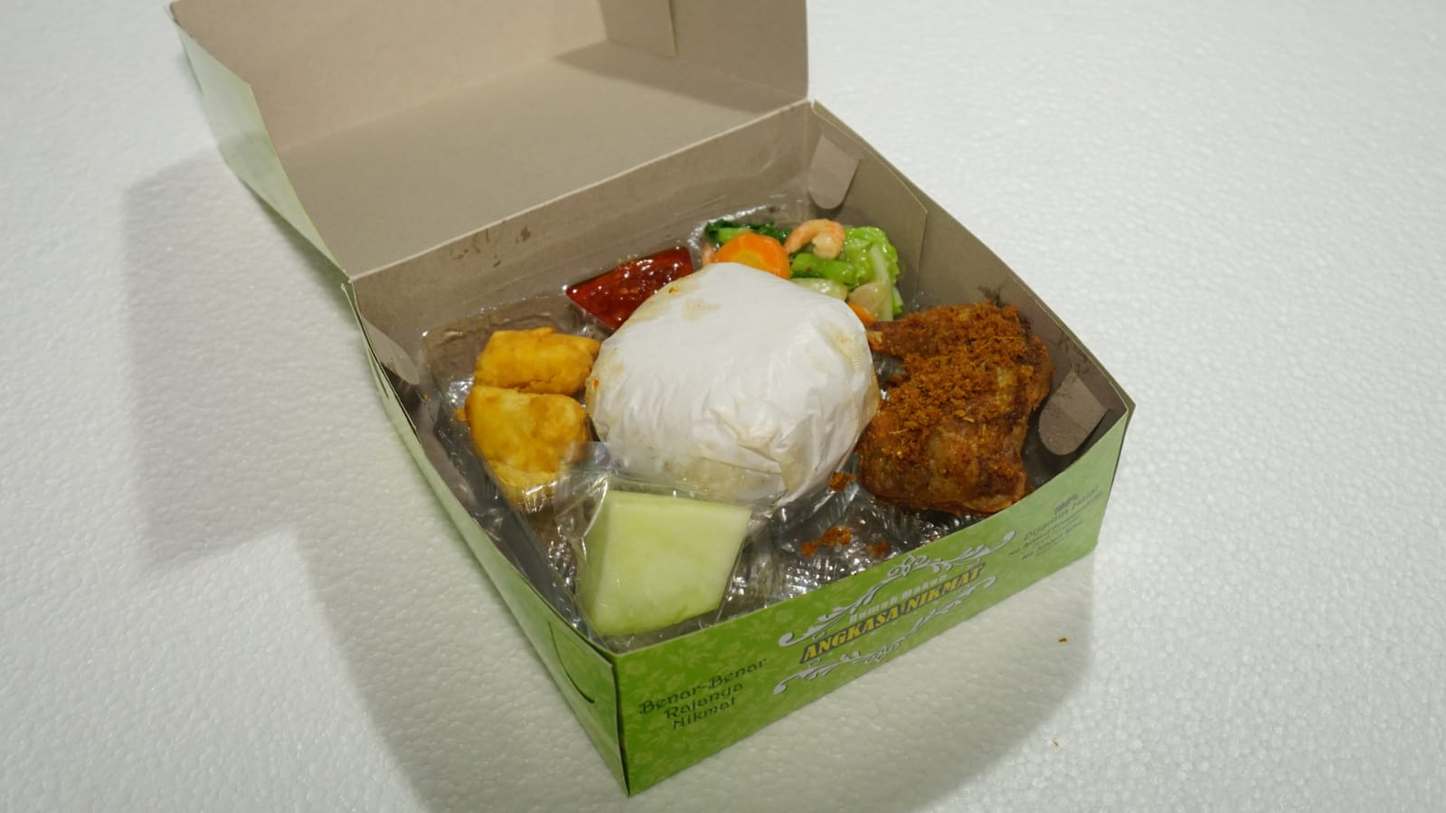buah_sayur_lainnya: (614, 497, 708, 599), (793, 225, 890, 276)
buah_sayur_vitA: (721, 238, 778, 261)
daging: (898, 337, 1022, 448)
kacang_legume: (488, 346, 566, 467)
makanan_berpati: (653, 294, 824, 436)
